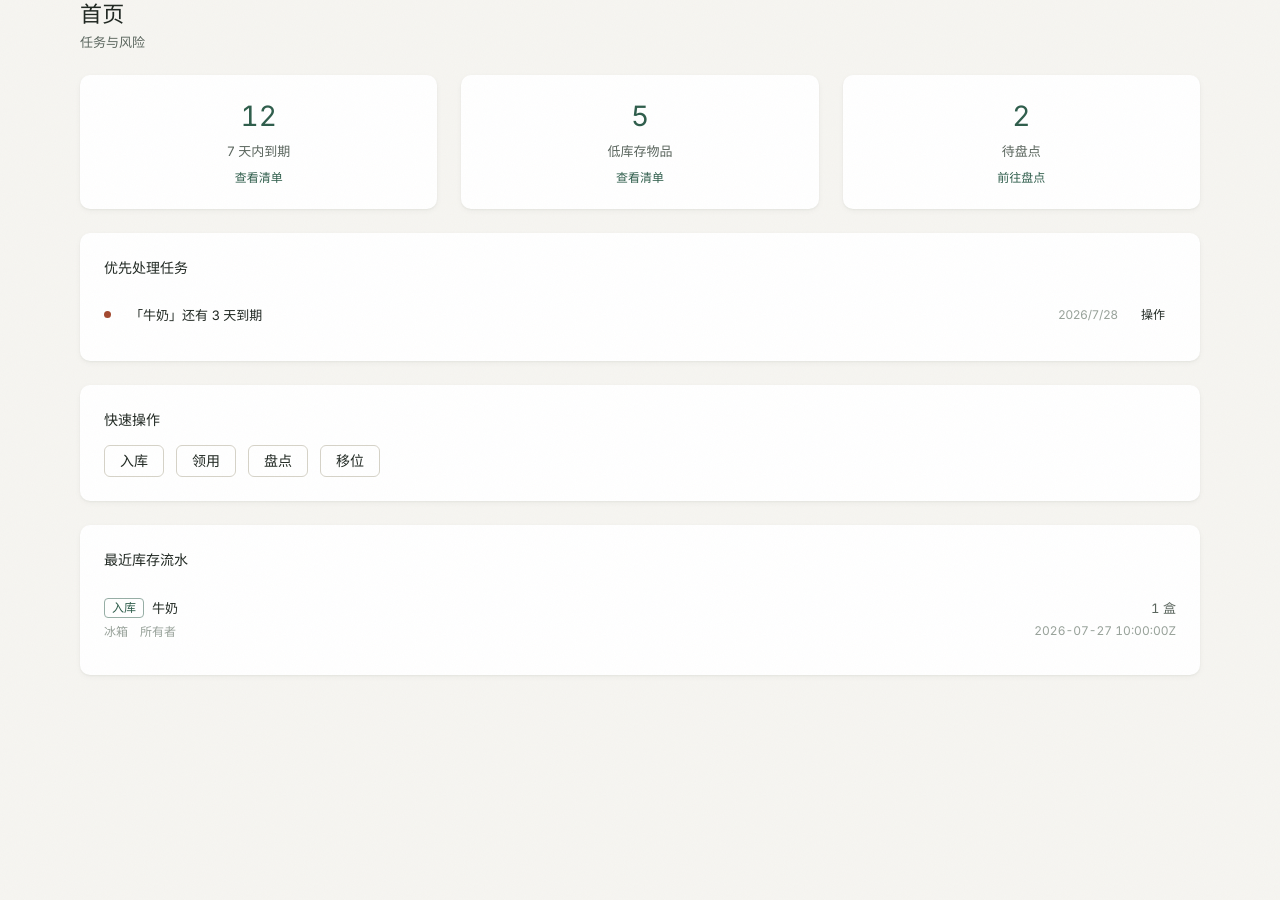
it: HomeView › opens movement detail drawer when a movement row is clicked
Click the button with class "movement-row" at (124, 608), box left=104, top=585, right=1176, bottom=651
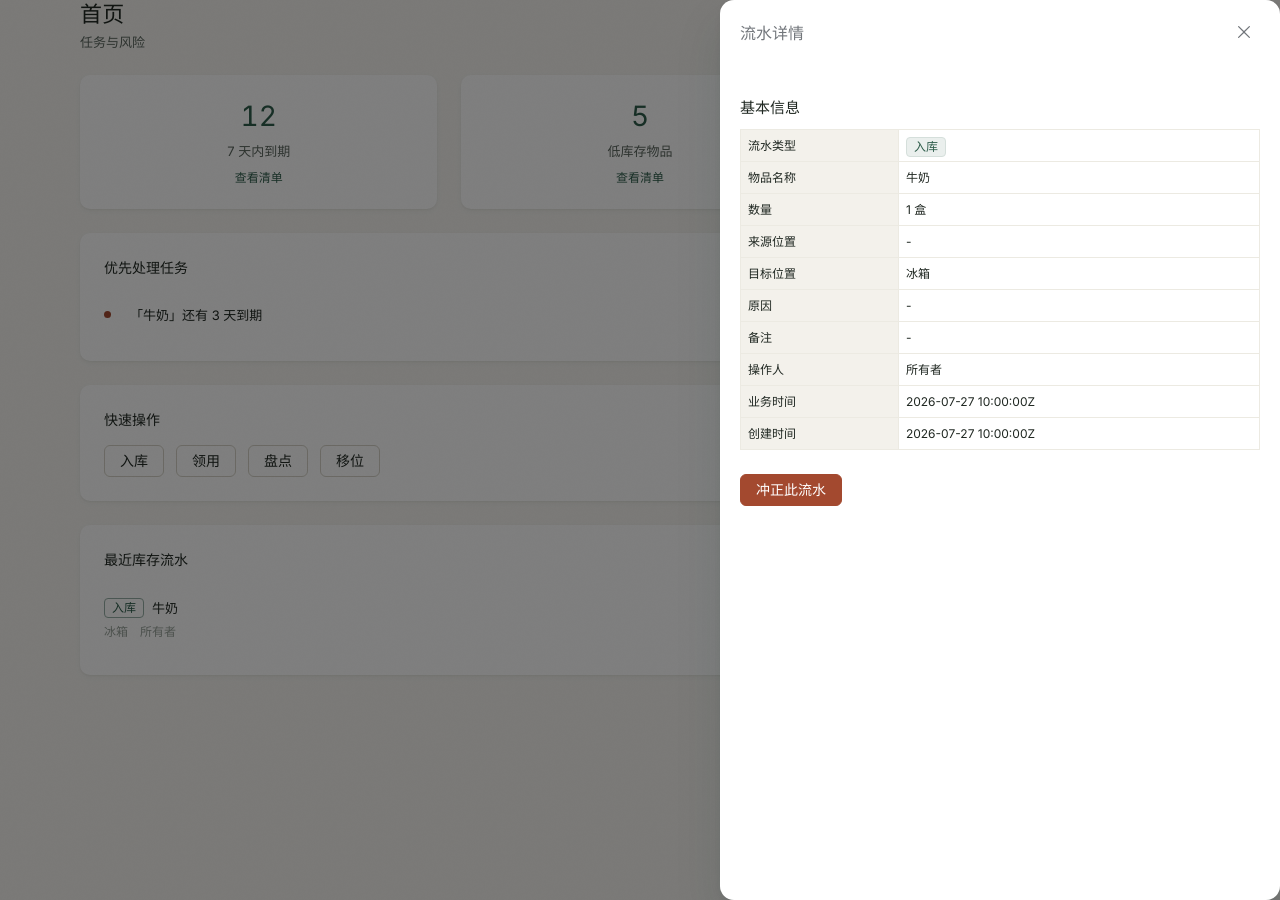
Check: the text "牛奶" is shown, box left=130, top=307, right=262, bottom=323
Check: the text "流水详情" is shown, box left=740, top=23, right=804, bottom=43
